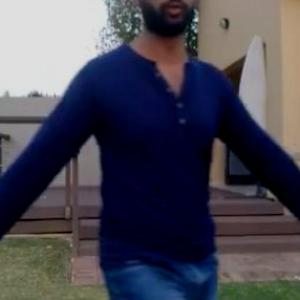land: (0, 3, 299, 299)
